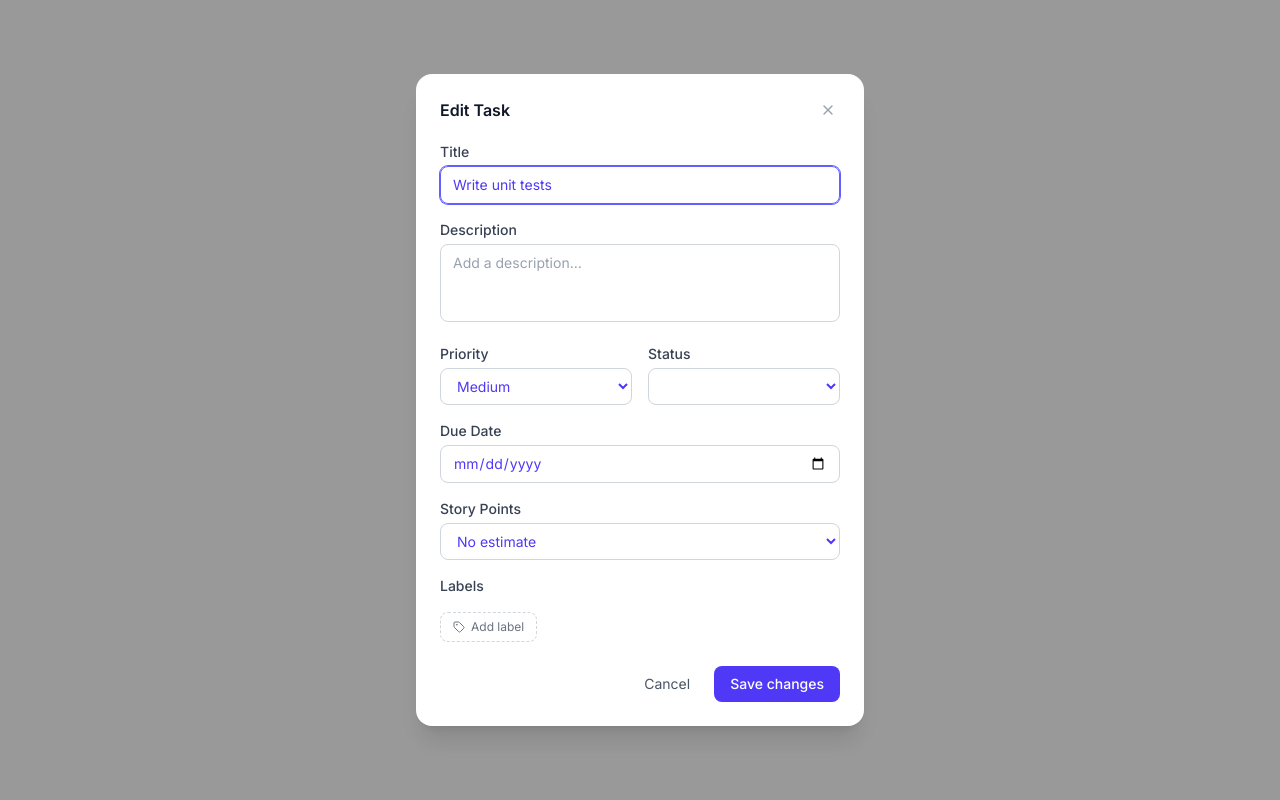
Test: TaskEditModal › shows error message when save request fails
The width and height of the screenshot is (1280, 800).
Click the button "Save changes" at (777, 684), box left=714, top=666, right=840, bottom=702
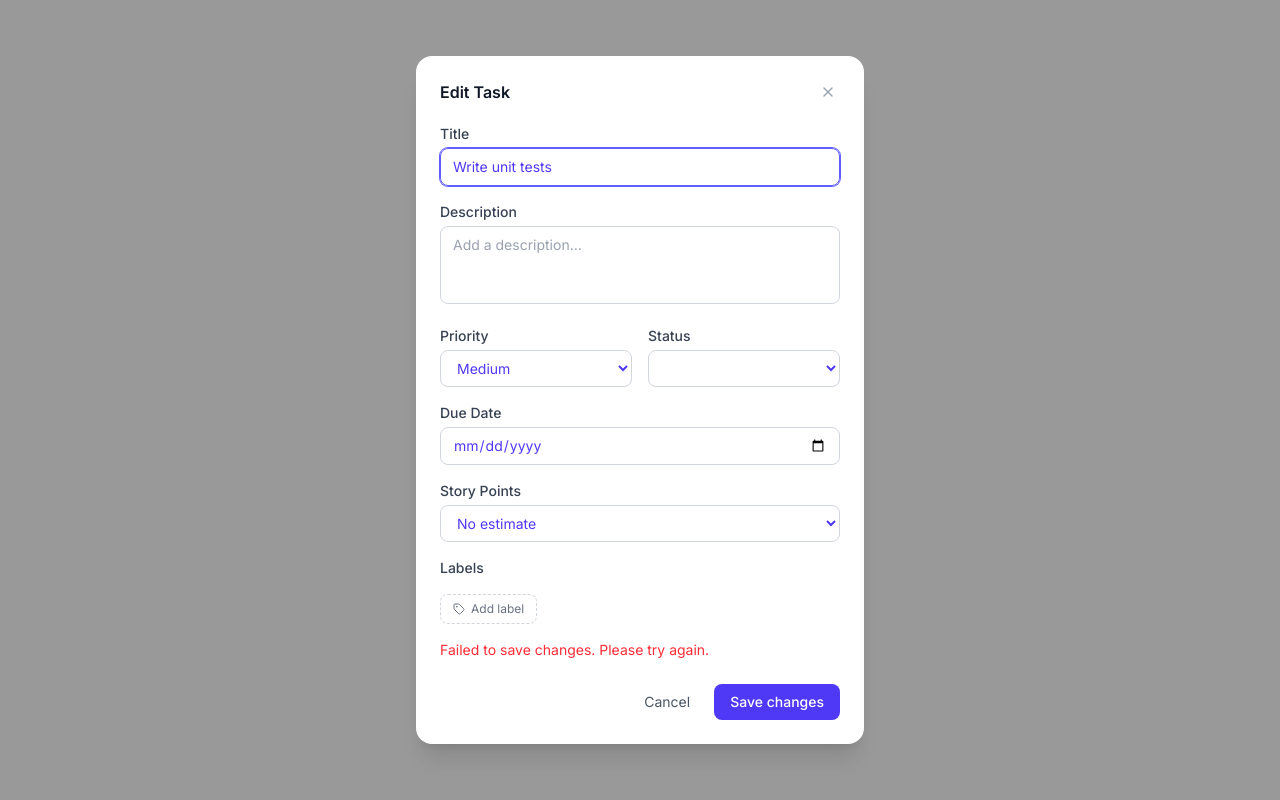
Now the text "Failed to save changes. Please try again." is shown, box left=440, top=641, right=709, bottom=658
